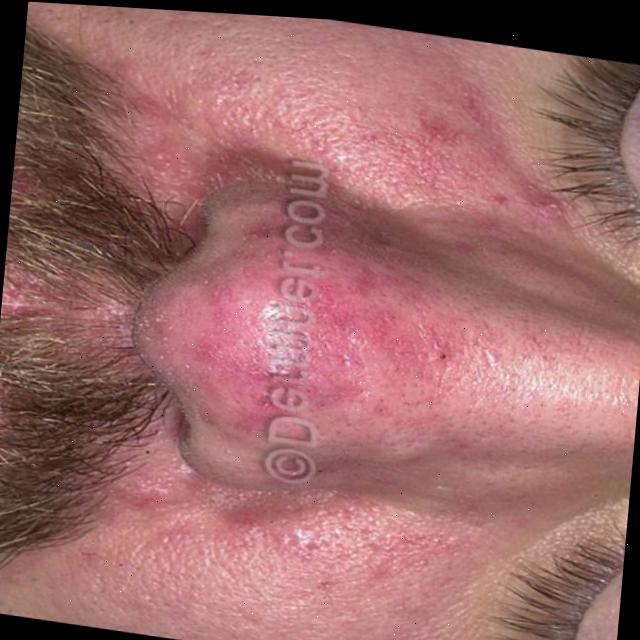Rosacea: (158, 222, 506, 430), (407, 71, 539, 213), (306, 474, 452, 596)
